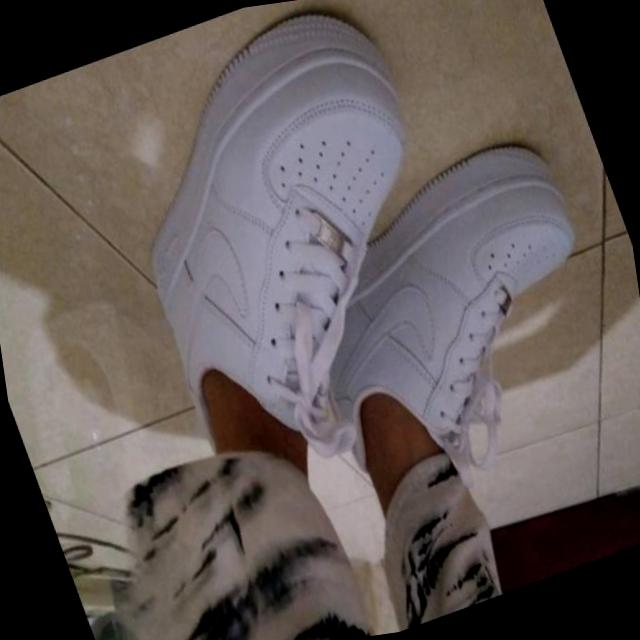nike_fake_airforce: (70, 0, 515, 498), (254, 114, 640, 493)
